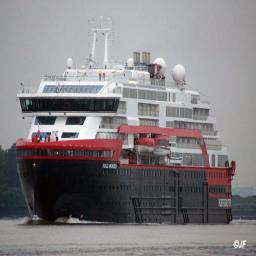cruises: (14, 22, 238, 228)
